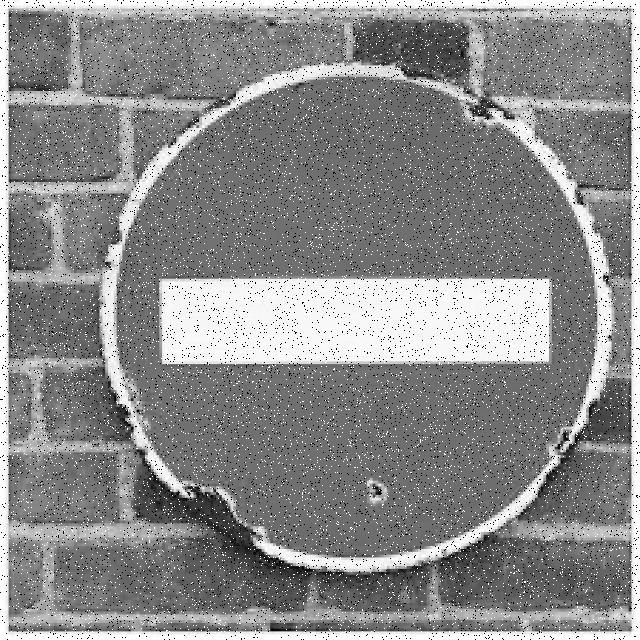no entry: (120, 74, 598, 552)
